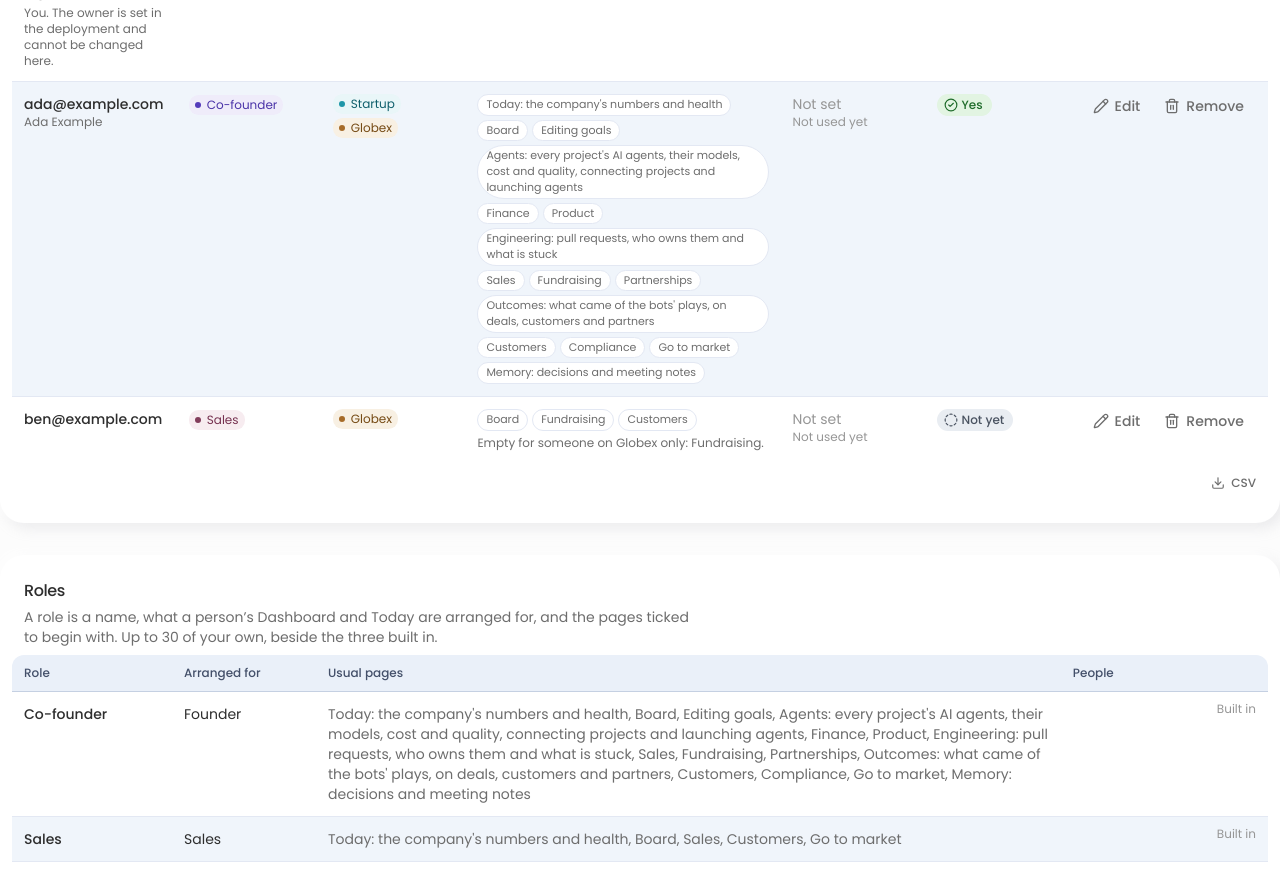
Scenario: TeamView: changing a teammate › the editor opens on the person's own pages, not their role's
The image size is (1280, 870).
(page scrolled)
Click the button "Edit" in the row of "ben@example.com": {"x": 1116, "y": 421} 1081,403 -> 1152,439
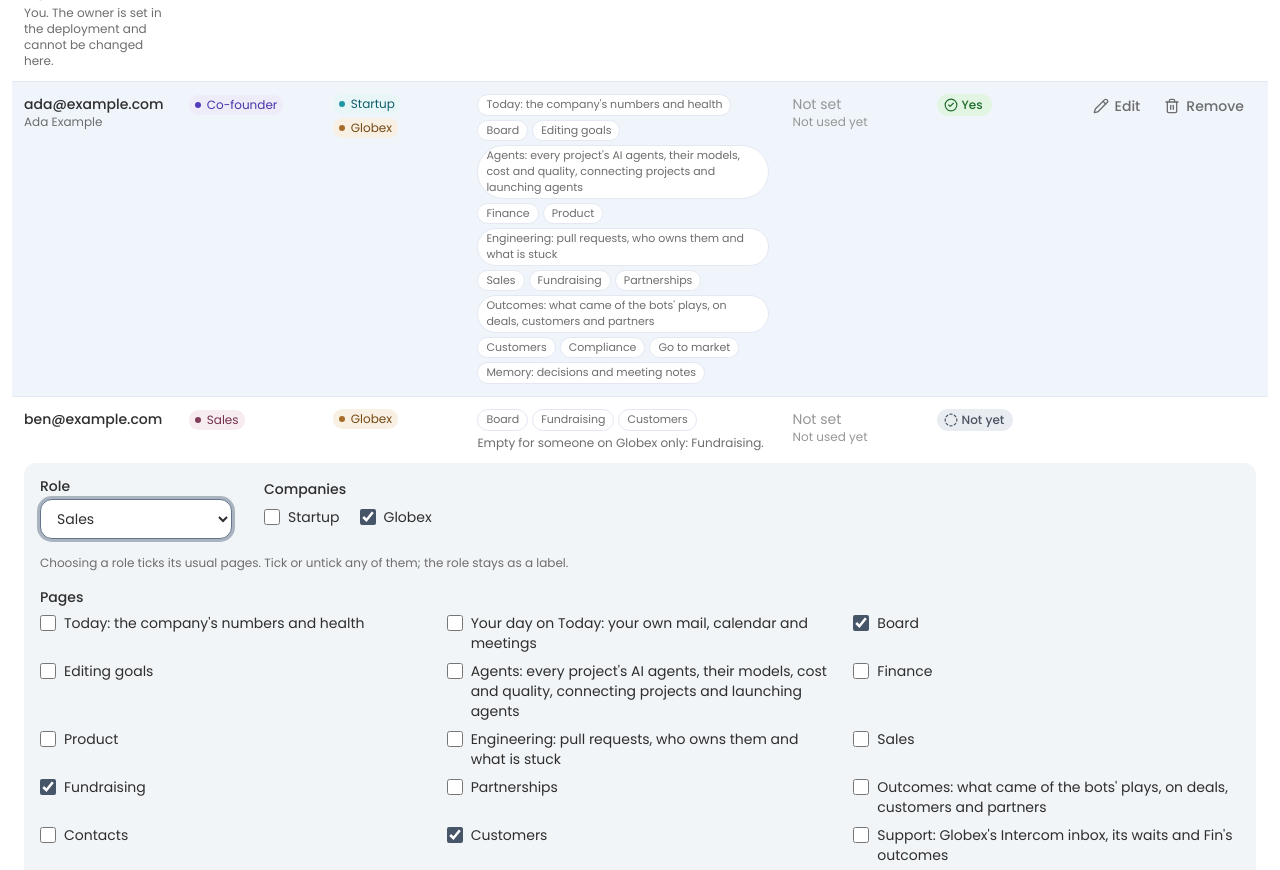
Expected: the dropdown labelled "Role" shows "Sales", 40,499 -> 232,539
Expected: the checkbox labelled "Today: the company's numbers and health" is not checked, 40,615 -> 56,631
